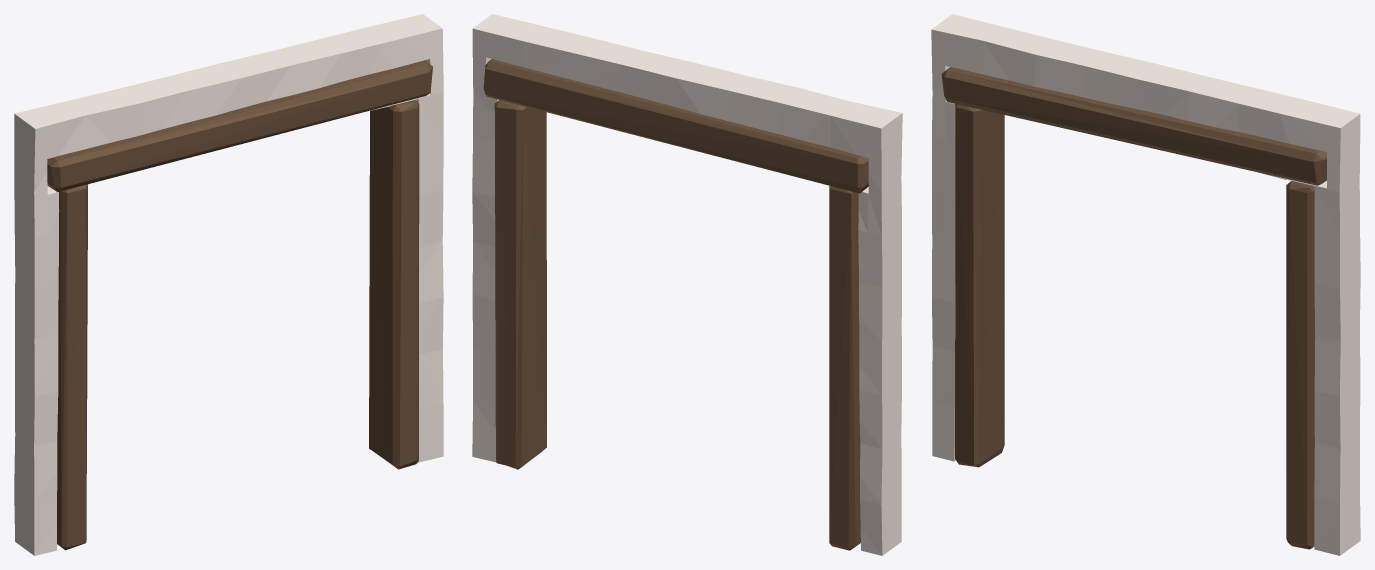
Rendered from PKF_PKX_Wall_Int_Arch_v1.fbx.
The picture shows the model from 3 angles, left to right: view 1: azimuth 30°, elevation 25°; view 2: azimuth 150°, elevation 25°; view 3: azimuth 330°, elevation 25°; orthographic projection.
Visible parts, largest first — view 1: PKX_Wall_Int_Arch_Chunk_10, PKX_Wall_Int_Arch_Chunk_11, PKX_Wall_Int_Arch_Chunk_09, PKX_Wall_Int_Arch_Chunk_02, PKX_Wall_Int_Arch_Chunk_04, PKX_Wall_Int_Arch_Chunk_07, PKX_Wall_Int_Arch_Chunk_08, PKX_Wall_Int_Arch_Chunk_06, PKX_Wall_Int_Arch_Chunk_05, PKX_Wall_Int_Arch_Chunk_03, PKX_Wall_Int_Arch_Chunk_01, PKX_Wall_Int_Arch_Chunk_00; view 2: PKX_Wall_Int_Arch_Chunk_10, PKX_Wall_Int_Arch_Chunk_11, PKX_Wall_Int_Arch_Chunk_09, PKX_Wall_Int_Arch_Chunk_02, PKX_Wall_Int_Arch_Chunk_04, PKX_Wall_Int_Arch_Chunk_07, PKX_Wall_Int_Arch_Chunk_08, PKX_Wall_Int_Arch_Chunk_06, PKX_Wall_Int_Arch_Chunk_05, PKX_Wall_Int_Arch_Chunk_03, PKX_Wall_Int_Arch_Chunk_01, PKX_Wall_Int_Arch_Chunk_00; view 3: PKX_Wall_Int_Arch_Chunk_09, PKX_Wall_Int_Arch_Chunk_11, PKX_Wall_Int_Arch_Chunk_10, PKX_Wall_Int_Arch_Chunk_05, PKX_Wall_Int_Arch_Chunk_03, PKX_Wall_Int_Arch_Chunk_07, PKX_Wall_Int_Arch_Chunk_08, PKX_Wall_Int_Arch_Chunk_06, PKX_Wall_Int_Arch_Chunk_02, PKX_Wall_Int_Arch_Chunk_01, PKX_Wall_Int_Arch_Chunk_04, PKX_Wall_Int_Arch_Chunk_00.
Part boxes in pixels (bbox=[...]): PKX_Wall_Int_Arch_Chunk_10: bbox=[369, 100, 419, 469]; PKX_Wall_Int_Arch_Chunk_11: bbox=[47, 60, 432, 192]; PKX_Wall_Int_Arch_Chunk_09: bbox=[57, 184, 87, 550]; PKX_Wall_Int_Arch_Chunk_02: bbox=[14, 306, 58, 555]; PKX_Wall_Int_Arch_Chunk_04: bbox=[14, 110, 59, 319]; PKX_Wall_Int_Arch_Chunk_07: bbox=[130, 57, 263, 131]; PKX_Wall_Int_Arch_Chunk_08: bbox=[244, 28, 381, 102]; PKX_Wall_Int_Arch_Chunk_06: bbox=[27, 86, 152, 158]; PKX_Wall_Int_Arch_Chunk_05: bbox=[362, 14, 443, 172]; PKX_Wall_Int_Arch_Chunk_03: bbox=[419, 165, 443, 305]; PKX_Wall_Int_Arch_Chunk_01: bbox=[419, 301, 443, 400]; PKX_Wall_Int_Arch_Chunk_00: bbox=[418, 394, 443, 462]; PKX_Wall_Int_Arch_Chunk_10: bbox=[494, 100, 546, 469]; PKX_Wall_Int_Arch_Chunk_11: bbox=[483, 59, 868, 193]; PKX_Wall_Int_Arch_Chunk_09: bbox=[829, 186, 860, 550]; PKX_Wall_Int_Arch_Chunk_02: bbox=[859, 305, 901, 555]; PKX_Wall_Int_Arch_Chunk_04: bbox=[858, 110, 902, 319]; PKX_Wall_Int_Arch_Chunk_07: bbox=[652, 57, 786, 129]; PKX_Wall_Int_Arch_Chunk_08: bbox=[534, 29, 671, 101]; PKX_Wall_Int_Arch_Chunk_06: bbox=[763, 85, 889, 157]; PKX_Wall_Int_Arch_Chunk_05: bbox=[472, 14, 553, 171]; PKX_Wall_Int_Arch_Chunk_03: bbox=[472, 165, 495, 305]; PKX_Wall_Int_Arch_Chunk_01: bbox=[472, 301, 495, 400]; PKX_Wall_Int_Arch_Chunk_00: bbox=[472, 394, 496, 462]; PKX_Wall_Int_Arch_Chunk_09: bbox=[955, 104, 1004, 467]; PKX_Wall_Int_Arch_Chunk_11: bbox=[941, 67, 1326, 185]; PKX_Wall_Int_Arch_Chunk_10: bbox=[1286, 181, 1315, 549]; PKX_Wall_Int_Arch_Chunk_05: bbox=[1259, 98, 1360, 264]; PKX_Wall_Int_Arch_Chunk_03: bbox=[1314, 250, 1360, 400]; PKX_Wall_Int_Arch_Chunk_07: bbox=[1046, 42, 1180, 113]; PKX_Wall_Int_Arch_Chunk_08: bbox=[1159, 70, 1298, 138]; PKX_Wall_Int_Arch_Chunk_06: bbox=[944, 17, 1066, 89]; PKX_Wall_Int_Arch_Chunk_02: bbox=[932, 220, 955, 461]; PKX_Wall_Int_Arch_Chunk_01: bbox=[1314, 386, 1360, 493]; PKX_Wall_Int_Arch_Chunk_04: bbox=[931, 14, 963, 228]; PKX_Wall_Int_Arch_Chunk_00: bbox=[1314, 479, 1360, 555].
Size of the model in its own units: 200 by 200 by 27.85.
